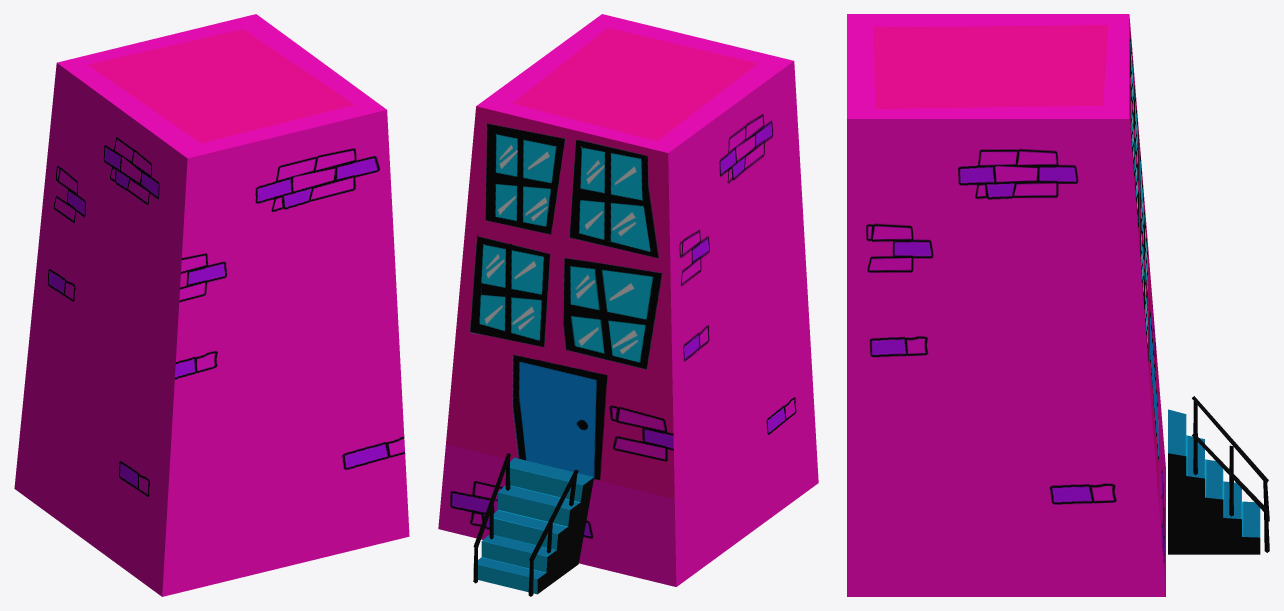
3 renders of one model, left to right at view 1: azimuth 30°, elevation 25°; view 2: azimuth 150°, elevation 25°; view 3: azimuth 270°, elevation 25°, orthographic. The views are drawn at different scales.
Parts seen in each view (by area): view 1: TODOS:HousesGroup:polySurface94; view 2: TODOS:HousesGroup:polySurface94; view 3: TODOS:HousesGroup:polySurface94.
Boxes of the visible parts, left/top/right/bottom form: TODOS:HousesGroup:polySurface94: left=14, top=14, right=409, bottom=596; TODOS:HousesGroup:polySurface94: left=438, top=14, right=818, bottom=596; TODOS:HousesGroup:polySurface94: left=847, top=14, right=1269, bottom=596.
Size of the model in its own units: 11.47 by 19.15 by 15.74.
